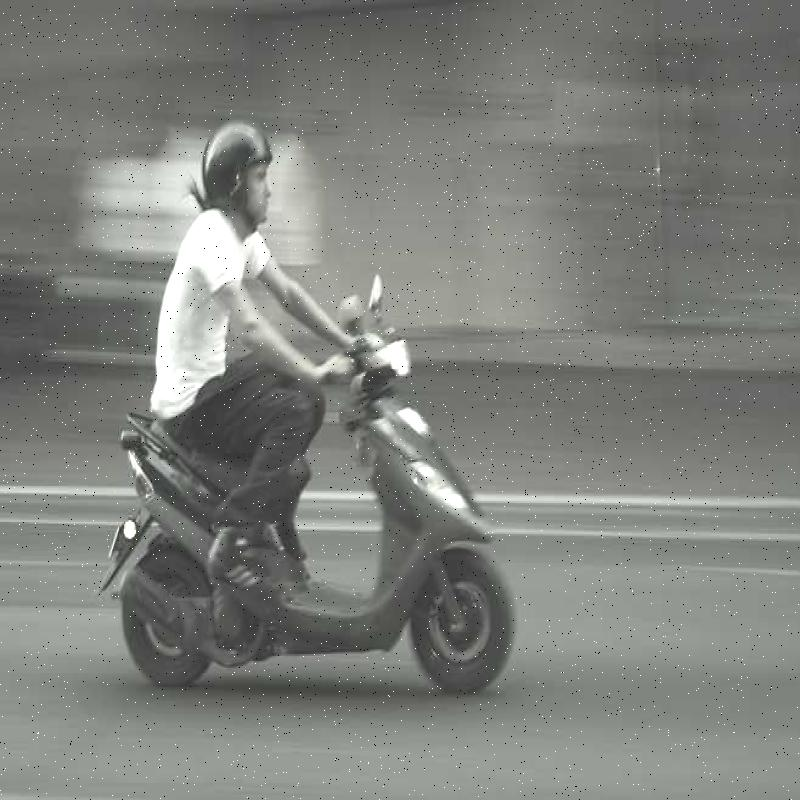bike: (126, 269, 516, 694)
